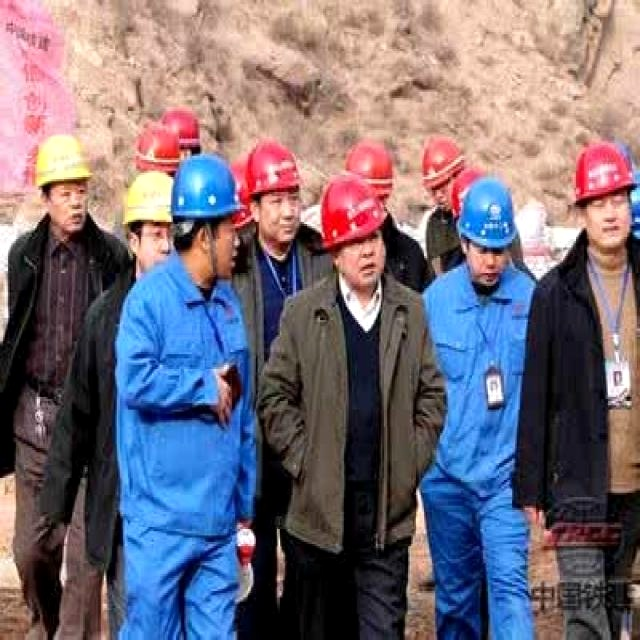Con_Casco: (172, 157, 237, 269), (319, 175, 386, 277)
Sin_Chaleco: (293, 285, 423, 526)
